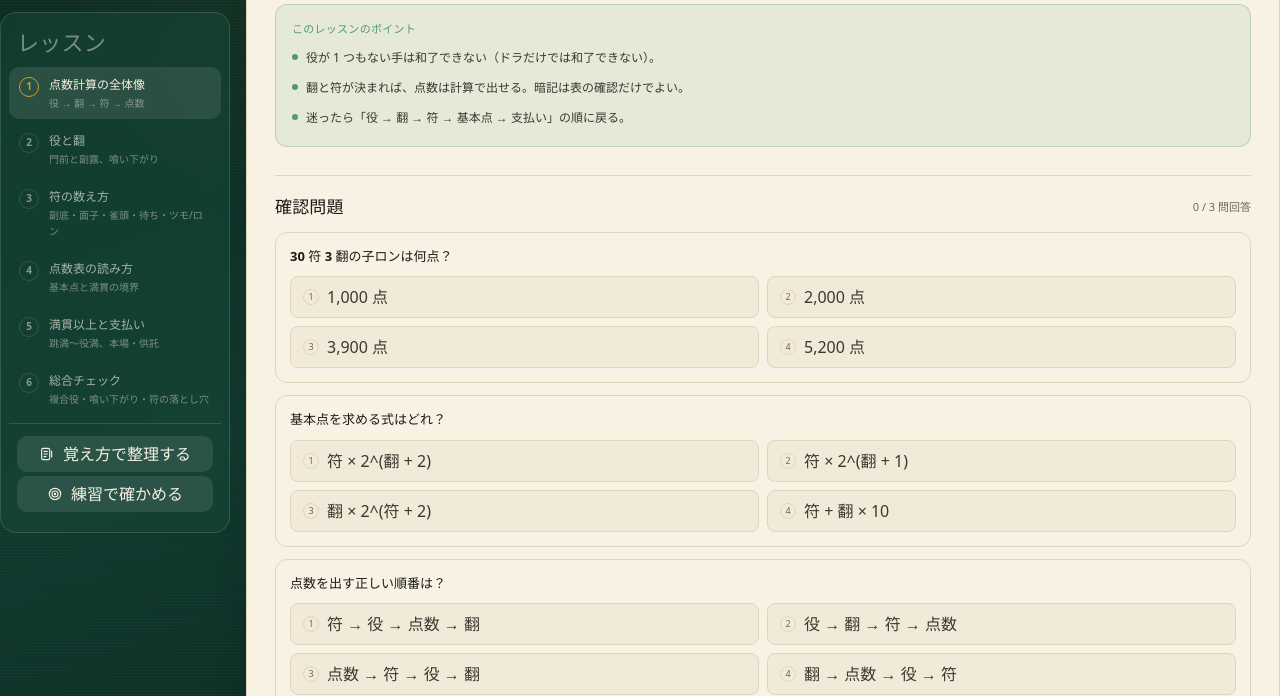
it: 学習 › 確認問題にすべて正解するとレッスン完了が保存される
The image size is (1280, 696).
(page scrolled)
Click the button "3 3,900 点". click: (358, 347)
box: [290,326,759,368]
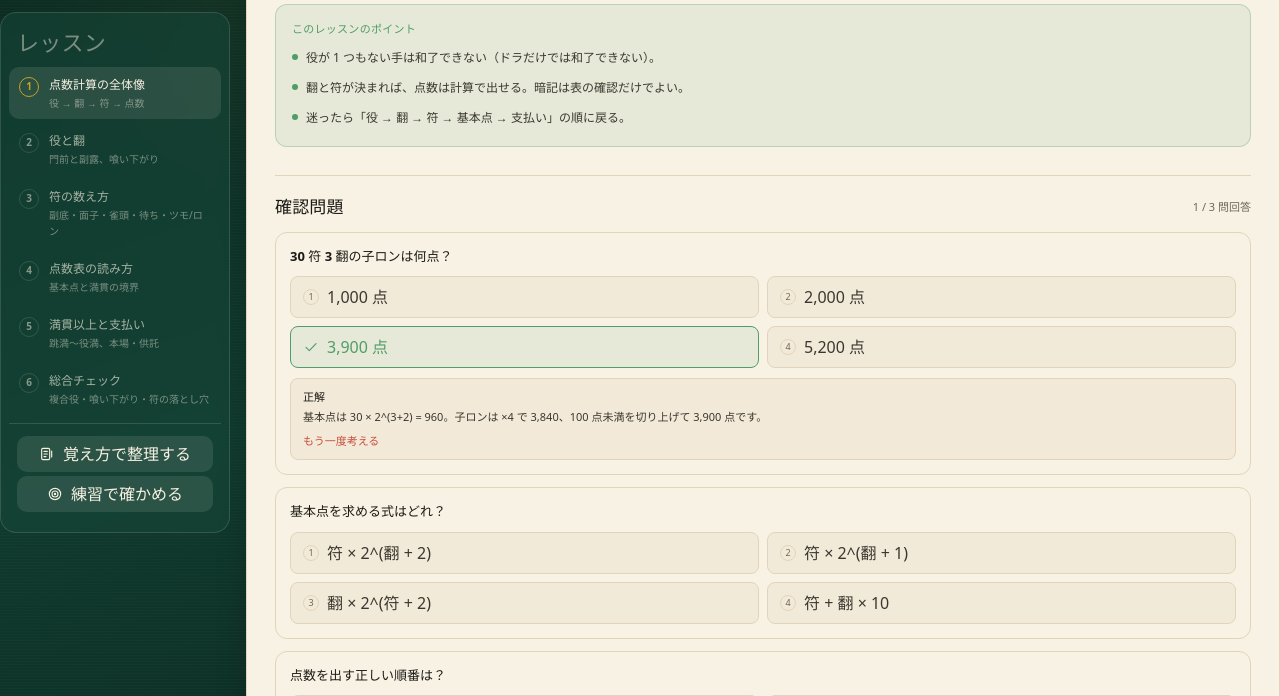
Click the button "1 符 × 2^(翻 + 2)". click: (379, 552)
box: [290,532,759,574]
(page scrolled)
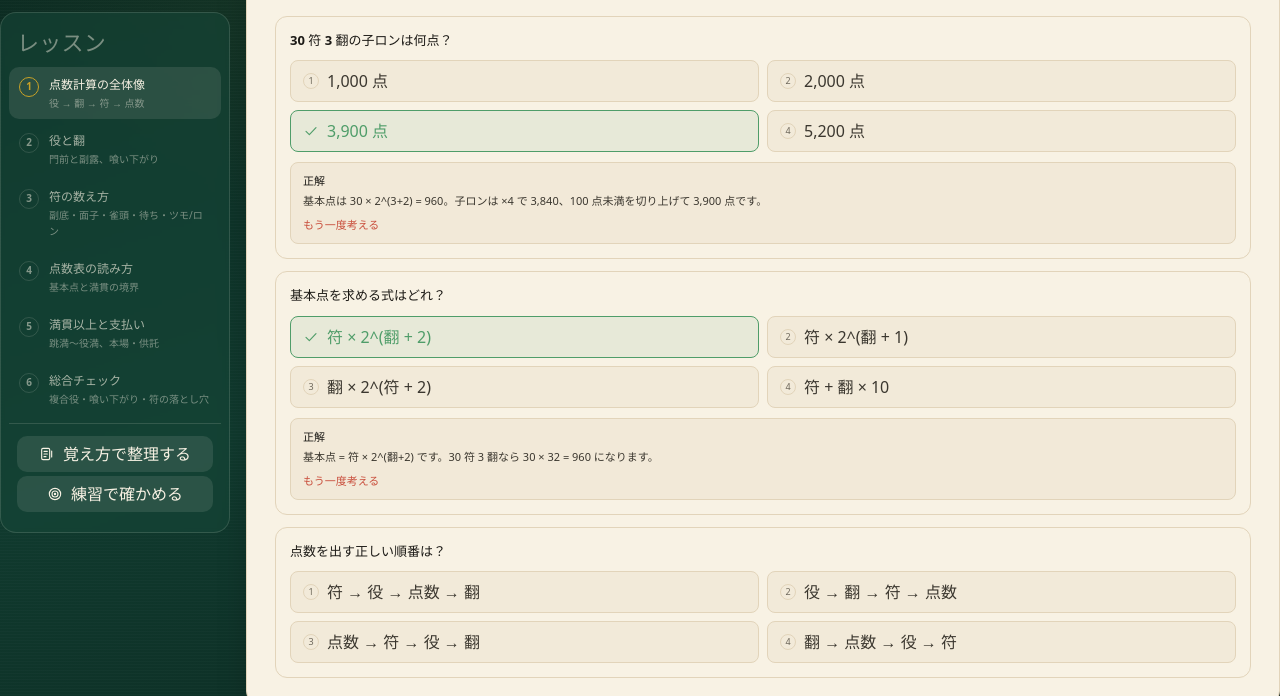
Click the button "2 役 → 翻 → 符 → 点数". click: (880, 592)
box: [767,571,1236,613]
(page scrolled)
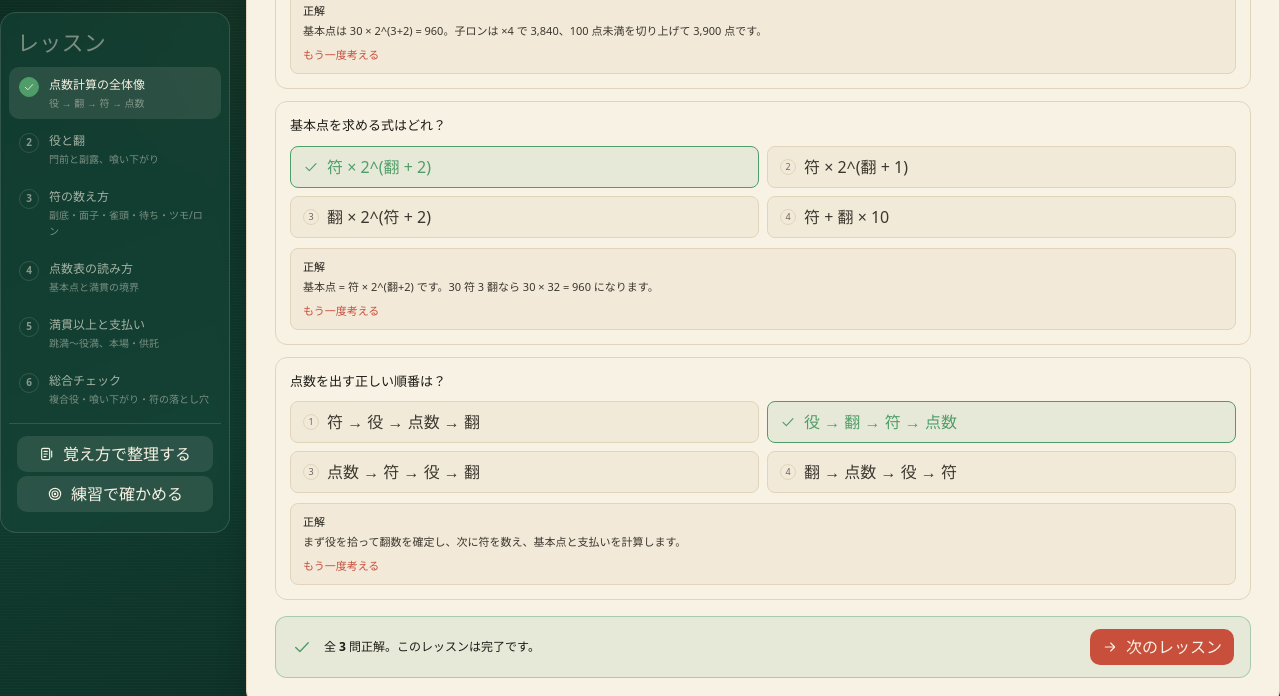
Expected: the text "全 3 問正解。このレッスンは完了です。" is shown, [324,638,540,656]
